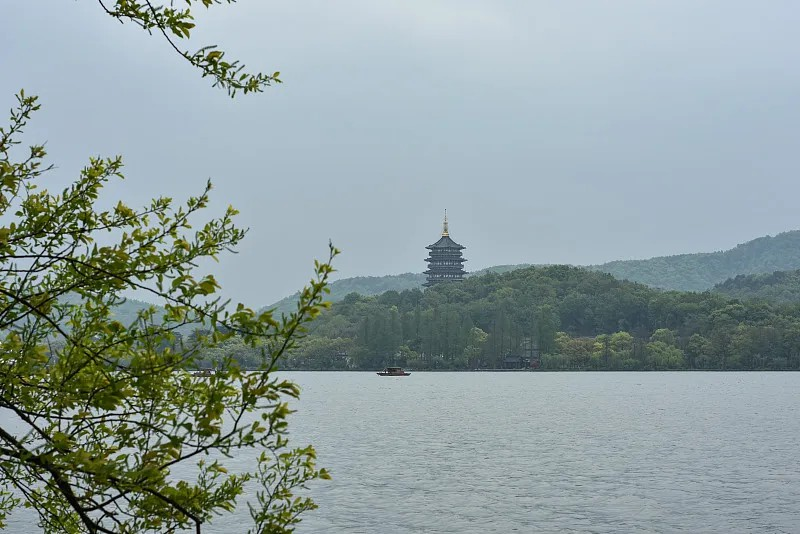Leifeng: (420, 207, 468, 288)
